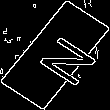N_NW: (19, 24, 91, 86)
